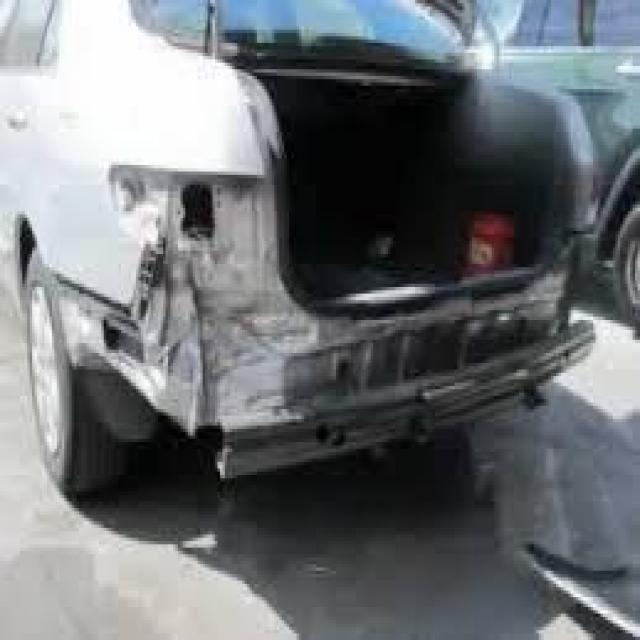damaged: (101, 162, 324, 438), (316, 294, 549, 419)
